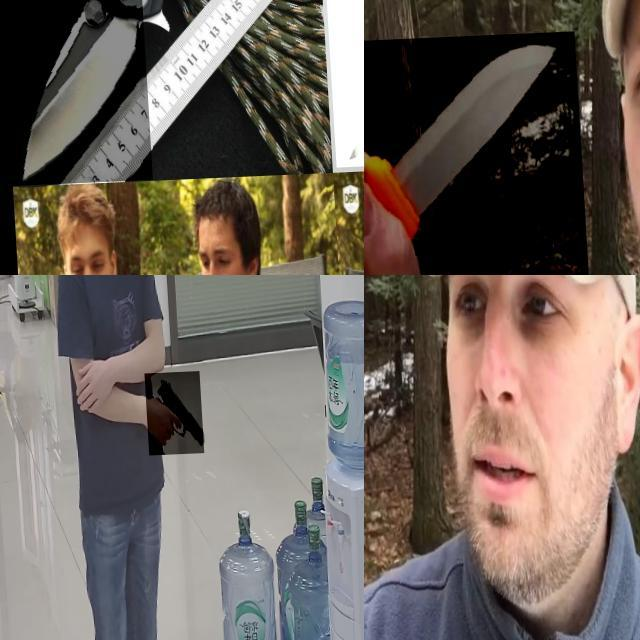-: (364, 34, 586, 275), (364, 275, 465, 640), (0, 0, 148, 186), (324, 0, 364, 170)
gun-knife-thesis - v11 Yolov5 augmented: (142, 374, 200, 458)
